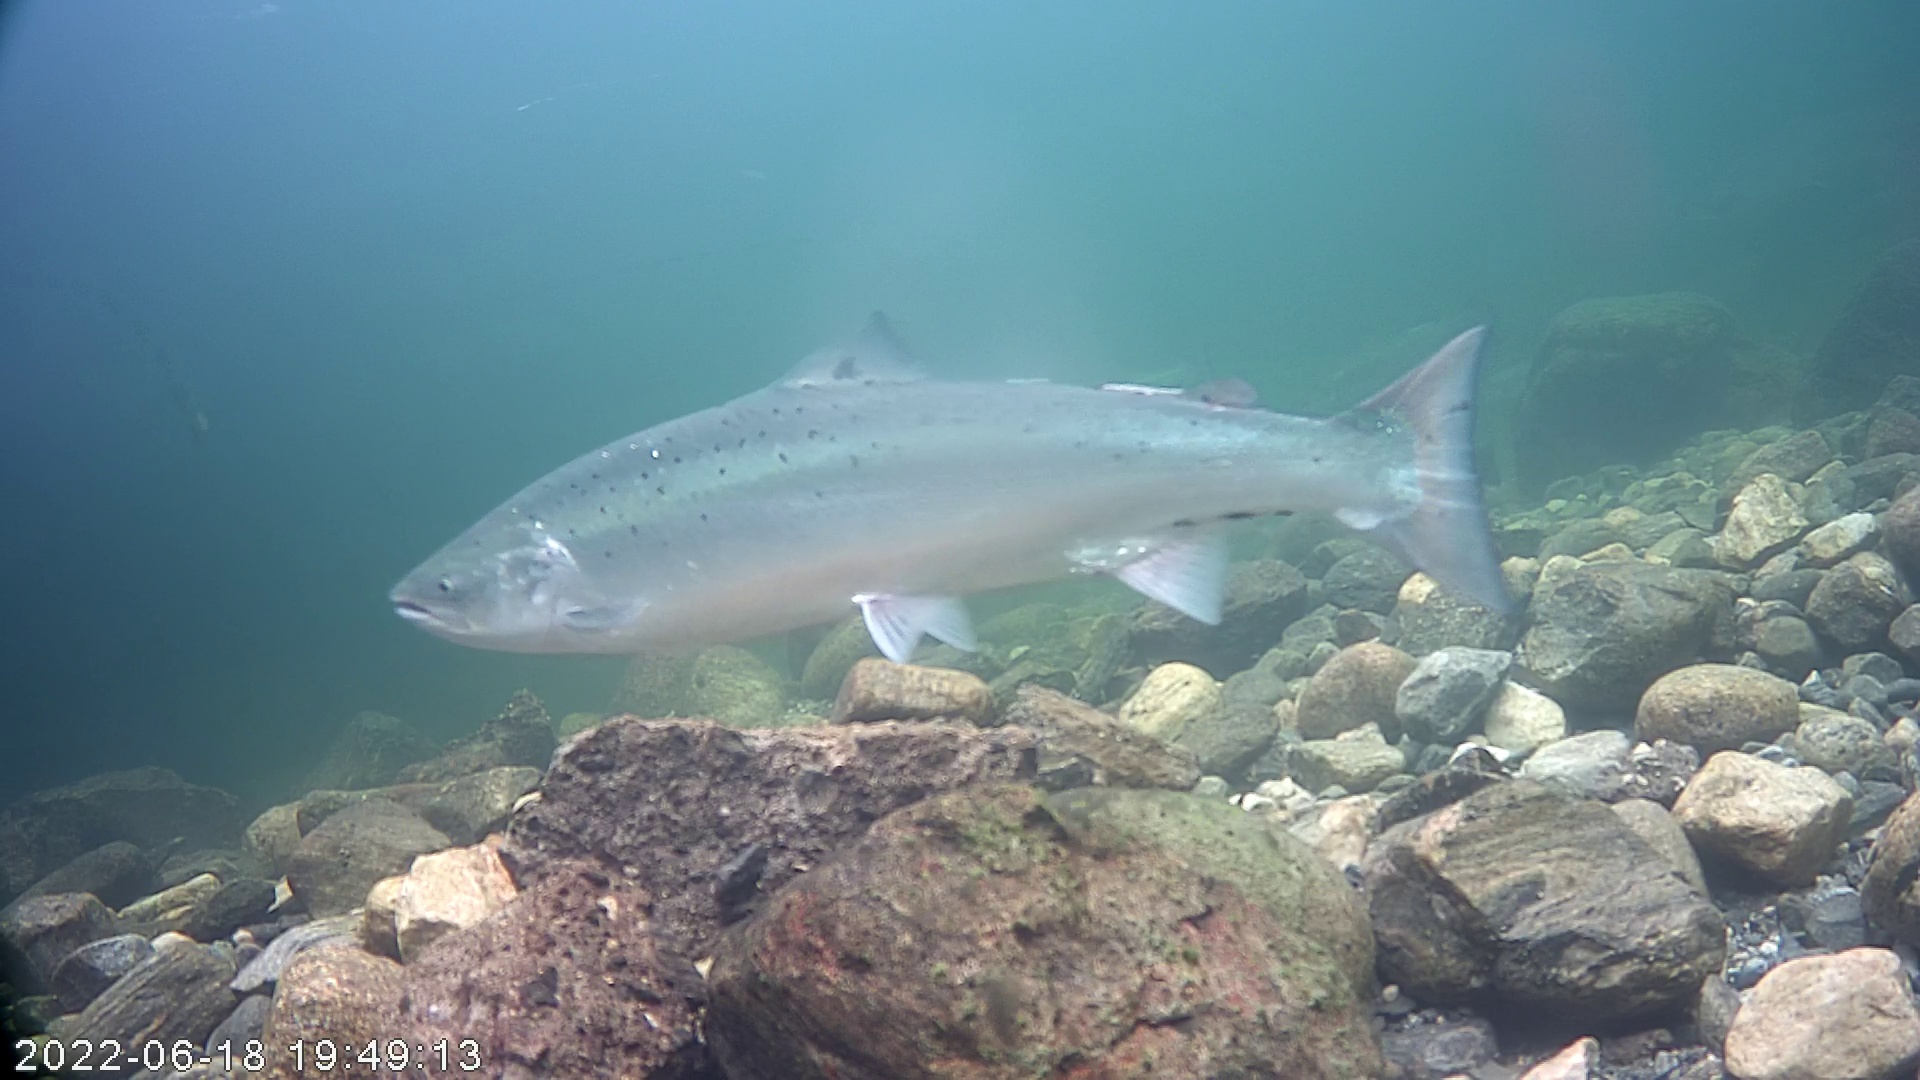salmon: (385, 307, 1514, 667)
